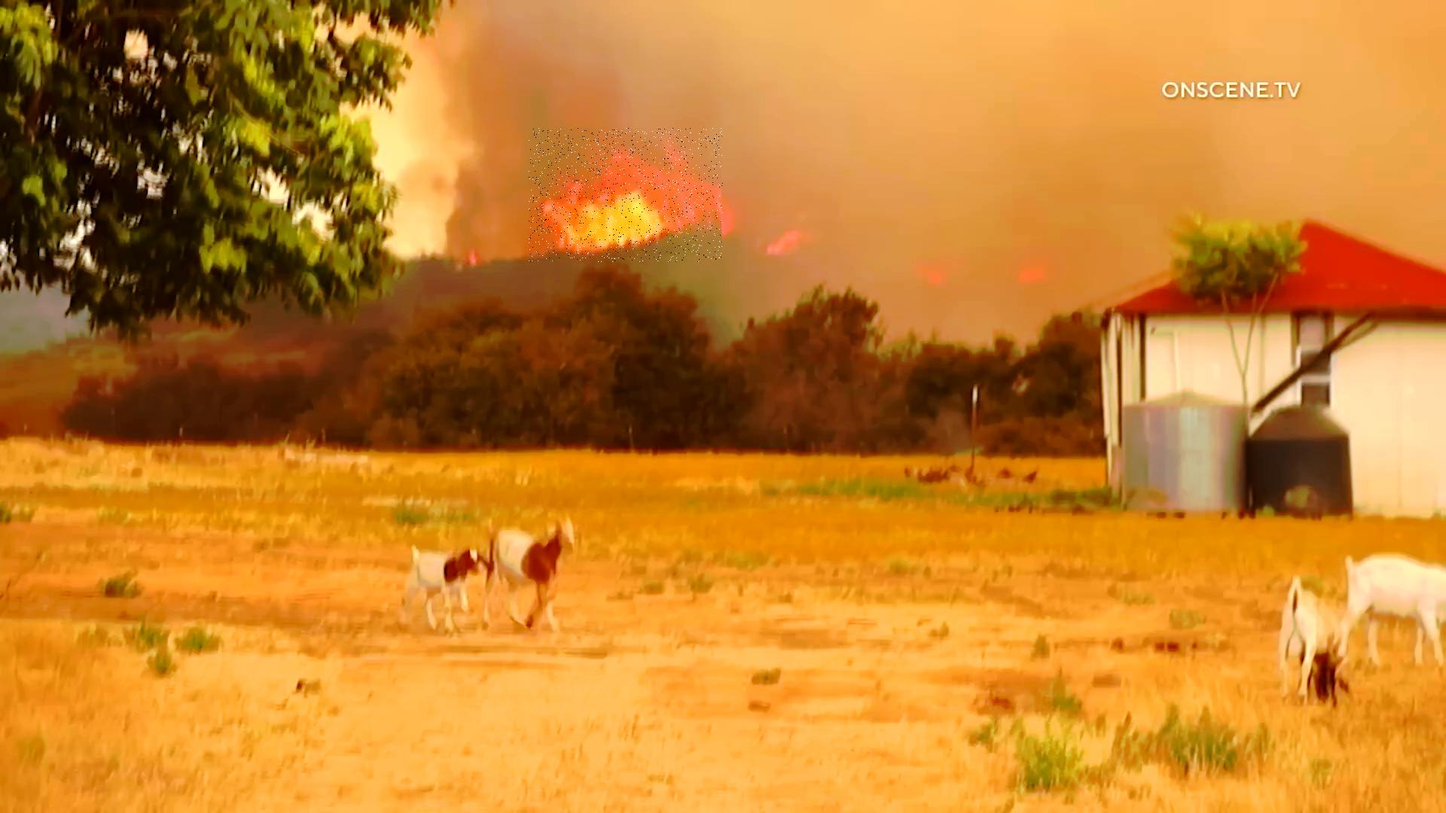fire: (529, 129, 724, 263)
